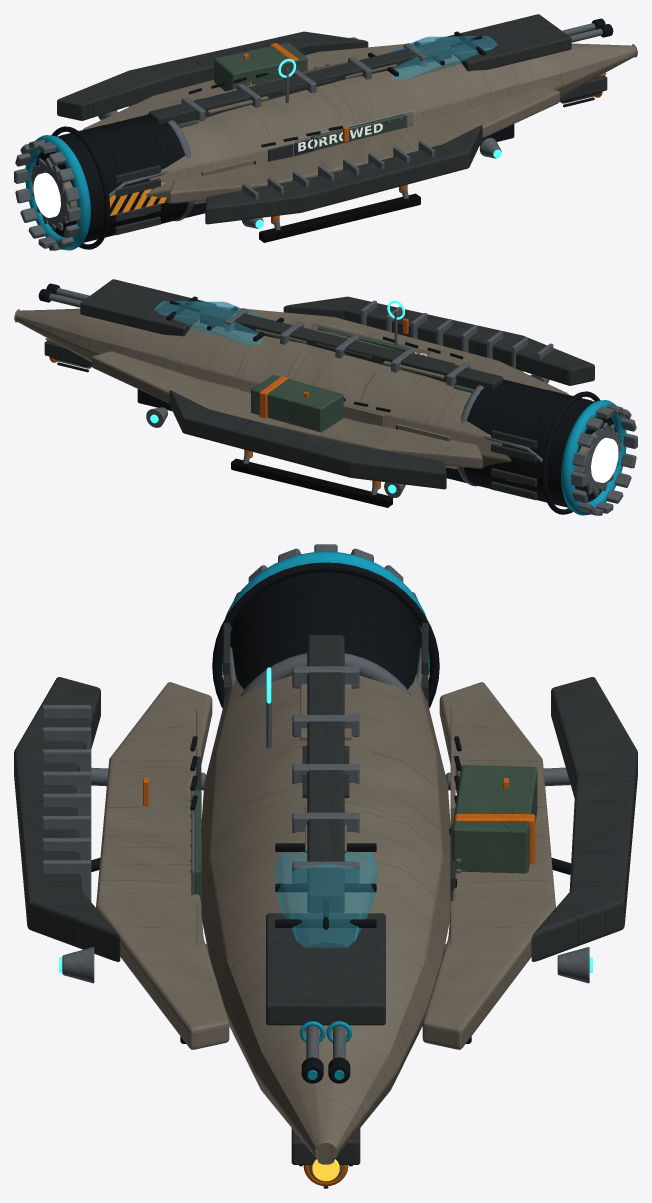
The model's file is kestrel-station-candidate.glb.
3 views of the same model, one above another, from view 1: azimuth 30°, elevation 25°; view 2: azimuth 150°, elevation 25°; view 3: azimuth 270°, elevation 25° (orthographic). The views are drawn at different scales.
Parts seen in each view (by area): view 1: LOD0_HULL_Kestrel_PressureHull, Hull_Radiator_Pod_Pair, Hull_Shoulder_Armor_Pair, Engine_Main_Housing, Hull_Dorsal_Spine, Nose_Armored_Brow, UtilityPod_Starboard, Cockpit_Recessed_Laminate, Engine_Aft_LoadRing, Landing_Skid_-1, Radiator_Fin_Array_Source, FieldRepair_Port_Plate (+12 smaller); view 2: LOD0_HULL_Kestrel_PressureHull, Hull_Radiator_Pod_Pair, Hull_Shoulder_Armor_Pair, Engine_Main_Housing, Hull_Dorsal_Spine, Nose_Armored_Brow, UtilityPod_Starboard, Cockpit_Recessed_Laminate, Engine_Aft_LoadRing, Landing_Skid_1, Radiator_Fin_Array_Source, Engine_CoolingRing (+10 smaller); view 3: LOD0_HULL_Kestrel_PressureHull, Hull_Shoulder_Armor_Pair, Hull_Radiator_Pod_Pair, Engine_Main_Housing, Nose_Armored_Brow, Hull_Dorsal_Spine, UtilityPod_Starboard, Cockpit_Recessed_Laminate, Radiator_Fin_Array_Source, Engine_CoolingRing, Engine_Aft_LoadRing, Engine_Forward_LoadRing (+5 smaller).
Boxes of the visible parts, x1,y1,x2,y2 form: LOD0_HULL_Kestrel_PressureHull: (30,43,637,216); Hull_Radiator_Pod_Pair: (57,31,482,224); Hull_Shoulder_Armor_Pair: (83,41,559,203); Engine_Main_Housing: (35,114,188,242); Hull_Dorsal_Spine: (148,40,451,124); Nose_Armored_Brow: (435,14,571,71); UtilityPod_Starboard: (214,42,307,91); Cockpit_Recessed_Laminate: (386,35,497,80); Engine_Aft_LoadRing: (25,135,90,250); Landing_Skid_-1: (259,193,420,242); Radiator_Fin_Array_Source: (242,140,434,199); FieldRepair_Port_Plate: (311,114,405,151); LOD0_HULL_Kestrel_PressureHull: (14,308,621,473); Hull_Radiator_Pod_Pair: (169,296,594,489); Hull_Shoulder_Armor_Pair: (92,306,568,468); Engine_Main_Housing: (463,379,616,507); Hull_Dorsal_Spine: (200,305,503,389); Nose_Armored_Brow: (80,279,216,336); UtilityPod_Starboard: (251,375,343,432); Cockpit_Recessed_Laminate: (154,300,265,345); Engine_Aft_LoadRing: (561,400,626,515); Landing_Skid_1: (231,458,392,507); Radiator_Fin_Array_Source: (360,300,553,377); Engine_CoolingRing: (542,391,600,514); LOD0_HULL_Kestrel_PressureHull: (201,673,450,1164); Hull_Shoulder_Armor_Pair: (96,682,555,1049); Hull_Radiator_Pod_Pair: (14,677,637,961); Engine_Main_Housing: (230,572,421,689); Nose_Armored_Brow: (266,913,385,1025); Hull_Dorsal_Spine: (307,635,344,912); UtilityPod_Starboard: (452,765,537,873); Cockpit_Recessed_Laminate: (274,851,378,947); Radiator_Fin_Array_Source: (42,705,91,901); Engine_CoolingRing: (212,562,439,708); Engine_Aft_LoadRing: (222,551,429,674); Engine_Forward_LoadRing: (238,653,412,697).
Size of the model in its own units: 27.84 by 6.94 by 14.04.
15 materials, 11 textured.
